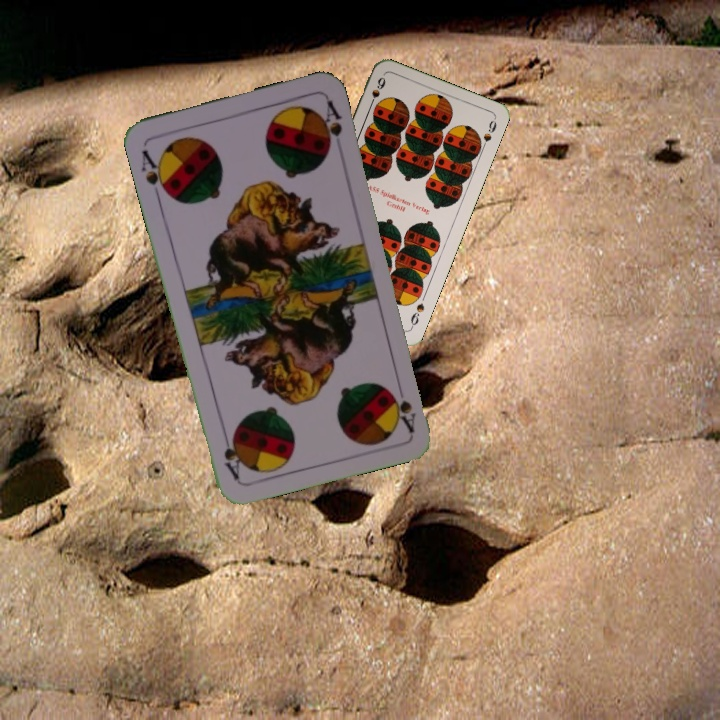S9: (365, 73, 388, 111), (406, 299, 427, 331)
SA: (137, 146, 172, 201), (388, 387, 419, 435)
